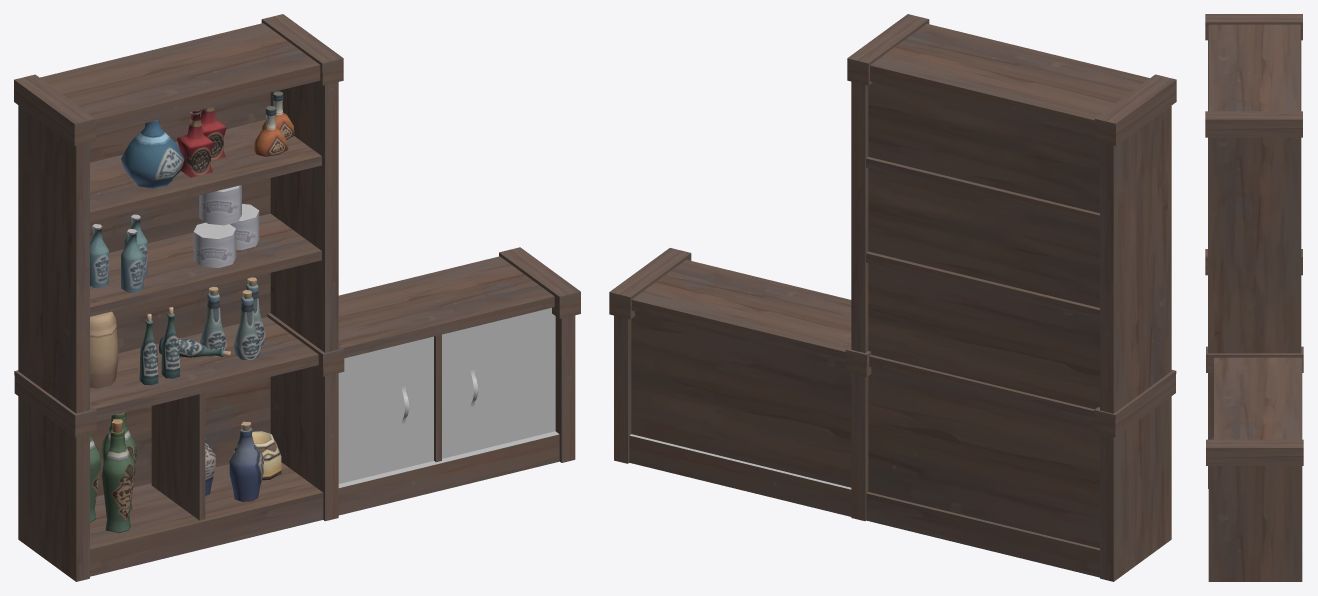
File: Homeworld_Interior_Md_Cabinet_Cupboard_04_Vo.fbx
3 renders of one model, left to right at view 1: azimuth 30°, elevation 25°; view 2: azimuth 150°, elevation 25°; view 3: azimuth 270°, elevation 25°, orthographic. The views are drawn at different scales.
Parts seen in each view (by area): view 1: Area_MdProps_Goods22_Lod0; view 2: Area_MdProps_Goods22_Lod0; view 3: Area_MdProps_Goods22_Lod0.
Part boxes in pixels (<box>): Area_MdProps_Goods22_Lod0: <box>14,14,580,581</box>; Area_MdProps_Goods22_Lod0: <box>609,14,1176,581</box>; Area_MdProps_Goods22_Lod0: <box>1205,14,1303,581</box>.
Bounding box in the file's own units: 3.17 × 2.75 × 0.6641.
